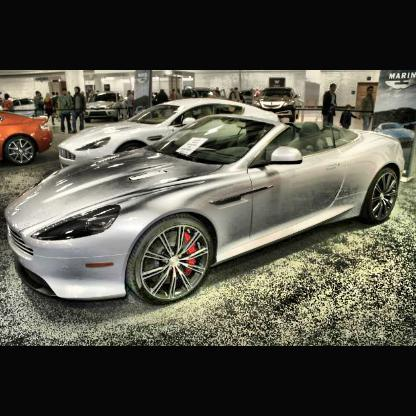Aston Martin Virage Convertible 2012: (6, 113, 408, 307)
